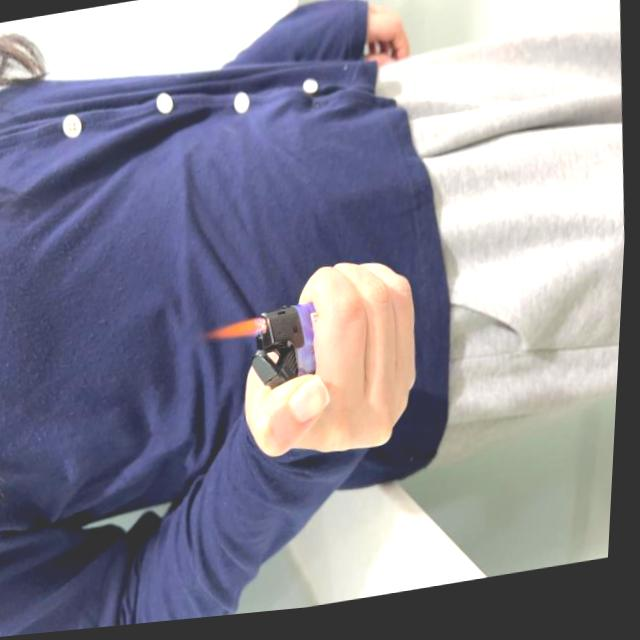helmet: (210, 317, 272, 347)
